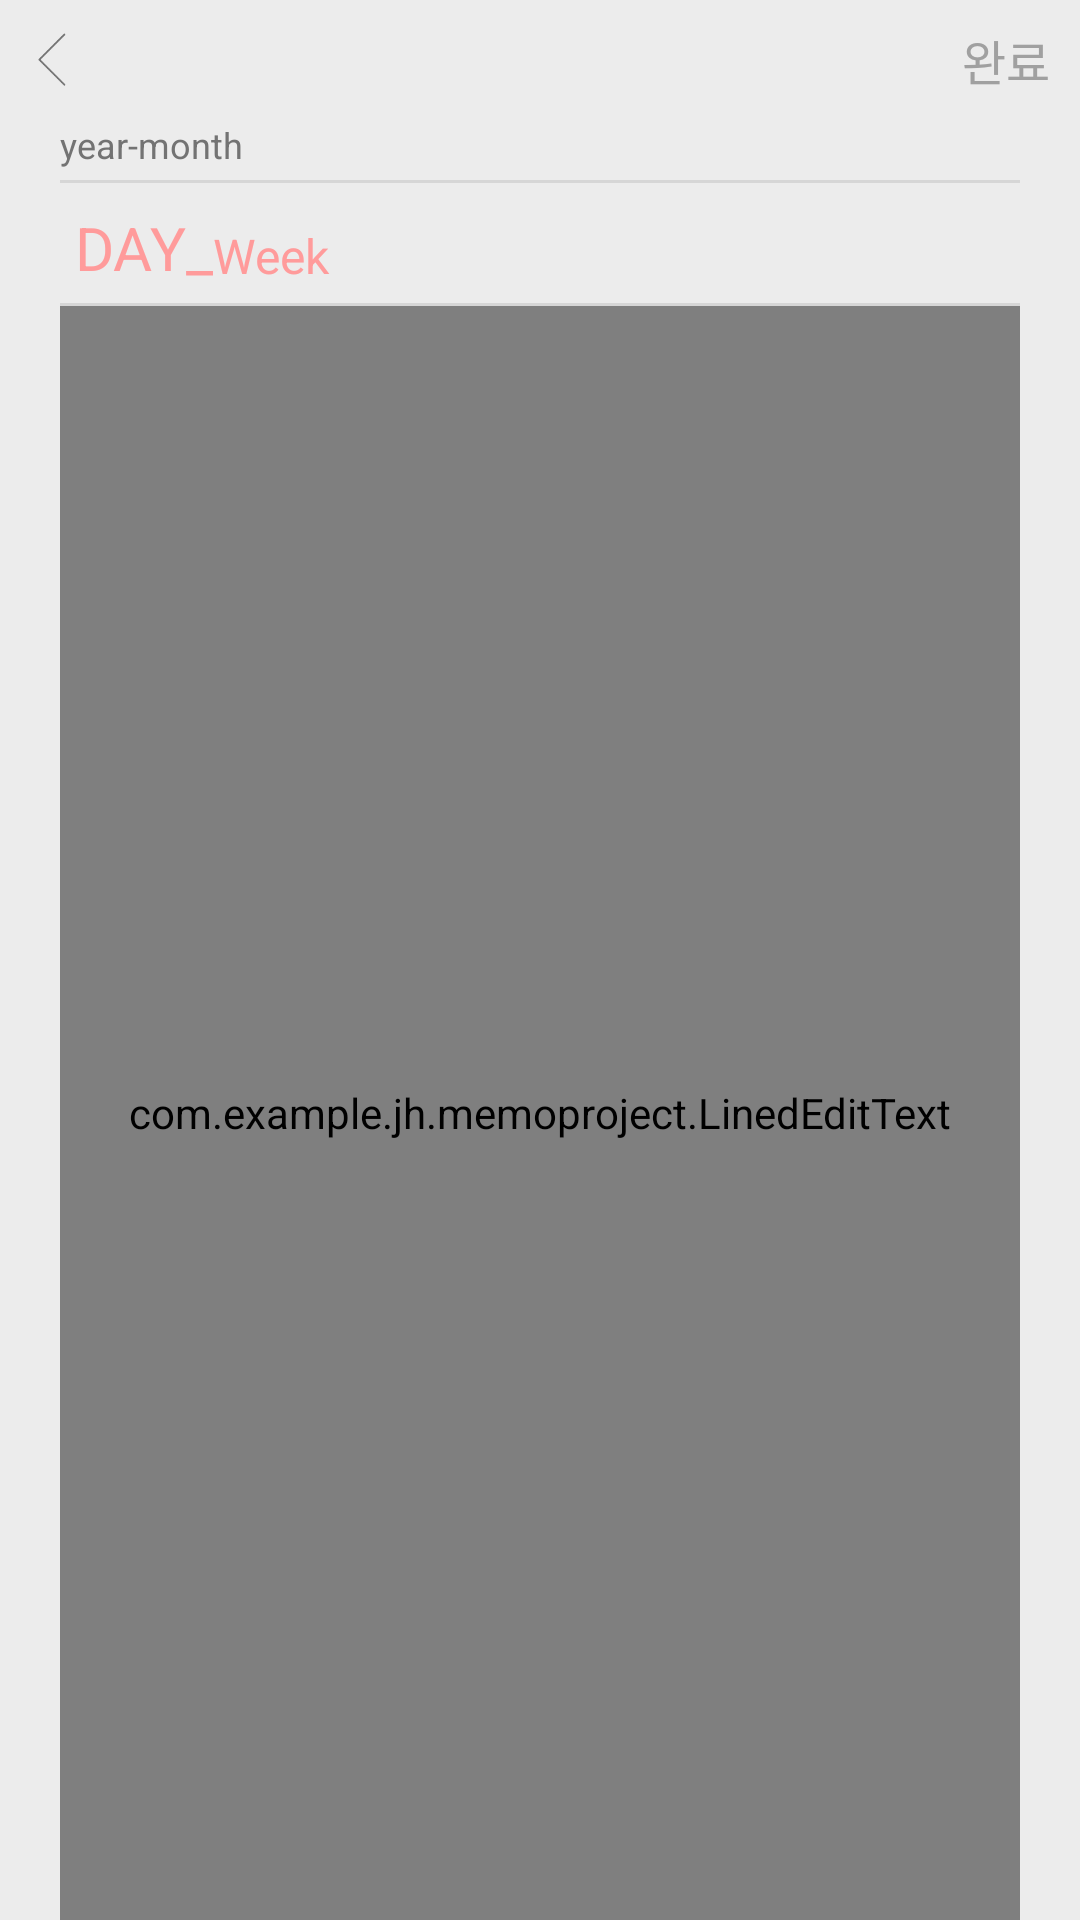

Named icons in this screenshot (1080 × 1920) and their bounding boxes, (x1, y1, x2, y2):
back: (38, 33, 65, 86)
